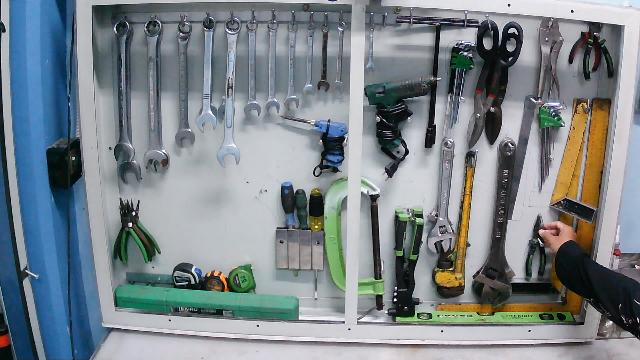tang_kombinasi: (523, 209, 549, 281)
